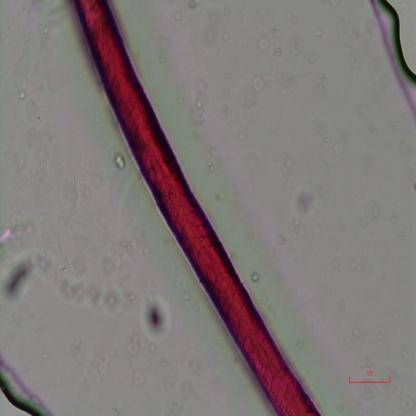Air bubble: (378, 0, 416, 80), (0, 365, 45, 415)
Background material: (5, 246, 53, 306), (56, 274, 125, 315), (141, 295, 172, 343), (20, 112, 49, 162), (186, 91, 216, 139), (102, 236, 136, 272), (0, 215, 34, 247), (289, 184, 317, 219), (356, 197, 380, 231), (69, 172, 90, 208), (202, 142, 225, 172), (175, 274, 196, 306), (126, 364, 148, 392), (203, 7, 218, 47), (126, 332, 148, 359), (284, 32, 305, 59), (91, 356, 116, 375), (342, 253, 360, 273), (282, 7, 296, 29), (332, 294, 349, 312), (220, 3, 235, 21), (399, 344, 414, 361), (370, 327, 385, 343), (113, 153, 126, 171), (186, 0, 200, 16), (400, 396, 413, 413), (252, 75, 264, 93), (330, 251, 342, 269), (361, 349, 373, 367), (307, 54, 320, 68), (352, 326, 363, 342), (259, 36, 270, 52), (244, 234, 257, 243), (314, 25, 322, 39), (220, 35, 232, 42), (18, 90, 25, 101), (252, 272, 258, 284), (175, 15, 184, 21)
Hair textile: (74, 1, 322, 415)
